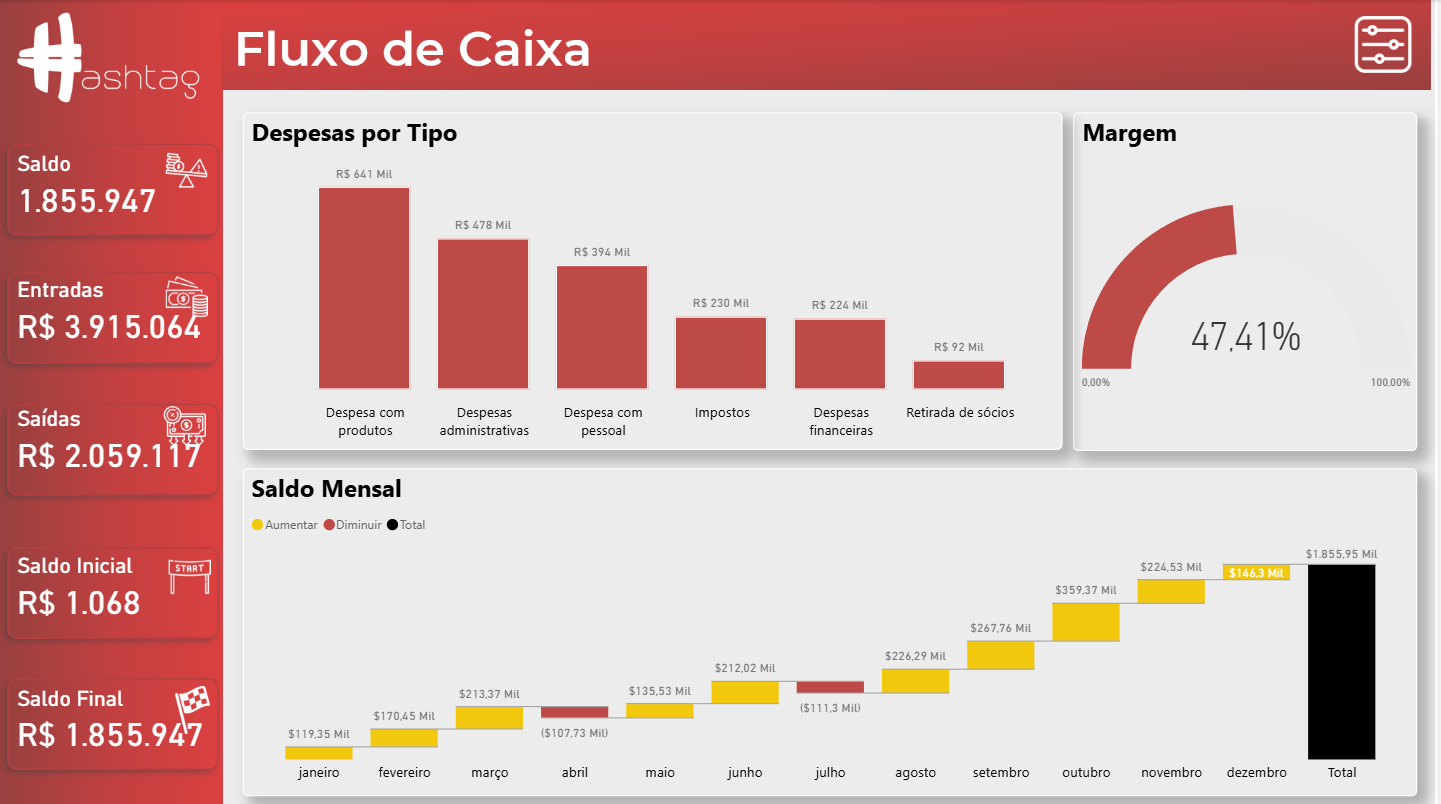

Layout of this report page (visuals, bound fields, positions):
{"tool":"powerbi","page":{"name":"Fluxo de Caixa","canvas":[1280,720],"ordinal":0},"visuals":[{"type":"multiRowCard","title":"Saldo","fields":{"Values":["Movimentações.Saldo"]},"box":[11.8,133.7,189.6,80.8],"z":0},{"type":"multiRowCard","title":"Entradas","fields":{"Values":["Movimentações.Entradas"]},"box":[11.8,245.4,189.6,77.9],"z":1000},{"type":"multiRowCard","title":"Saídas","fields":{"Values":["Movimentações.Saidas"]},"box":[11.8,360,189.6,77.9],"z":2000},{"type":"multiRowCard","title":"Saldo Inicial","fields":{"Values":["Movimentações.Saldo Inicial"]},"box":[11.8,490.8,189.6,77.9],"z":3000},{"type":"multiRowCard","title":"Saldo Final","fields":{"Values":["Movimentações.Saldo Final"]},"box":[11.8,609.8,189.6,77.9],"z":4000},{"type":"columnChart","title":"Despesas por Tipo","fields":{"Category":["Movimentações.Classificação"],"Y":["Movimentações.Saidas"]},"box":[217.5,99.9,728.8,299.8],"z":5000},{"type":"gauge","fields":{"Y":["Movimentações.Margem"]},"box":[955.6,99.9,306.1,300.5],"z":6000},{"type":"waterfallChart","title":"Saldo Mensal","fields":{"Category":["Calendario.Nome do Mes"],"Y":["Movimentações.Saldo"]},"box":[217.4,416.2,1044.3,291.2],"z":7000},{"type":"image","box":[1201.1,0,60.7,78.4],"z":8000}]}

Visuals, with their boxes in screenshot pixels (x1, y1, x2, y2), scaled from the page's 1280x720 canvas onto the 1441x804 screenshot:
"Saldo" multiRowCard: left=13, top=149, right=227, bottom=240
"Entradas" multiRowCard: left=13, top=274, right=227, bottom=361
"Saídas" multiRowCard: left=13, top=402, right=227, bottom=489
"Saldo Inicial" multiRowCard: left=13, top=548, right=227, bottom=635
"Saldo Final" multiRowCard: left=13, top=681, right=227, bottom=768
"Despesas por Tipo" columnChart: left=245, top=112, right=1065, bottom=446
gauge - Movimentações.Margem: left=1076, top=112, right=1420, bottom=447
"Saldo Mensal" waterfallChart: left=245, top=465, right=1420, bottom=790
image: left=1352, top=0, right=1421, bottom=88
